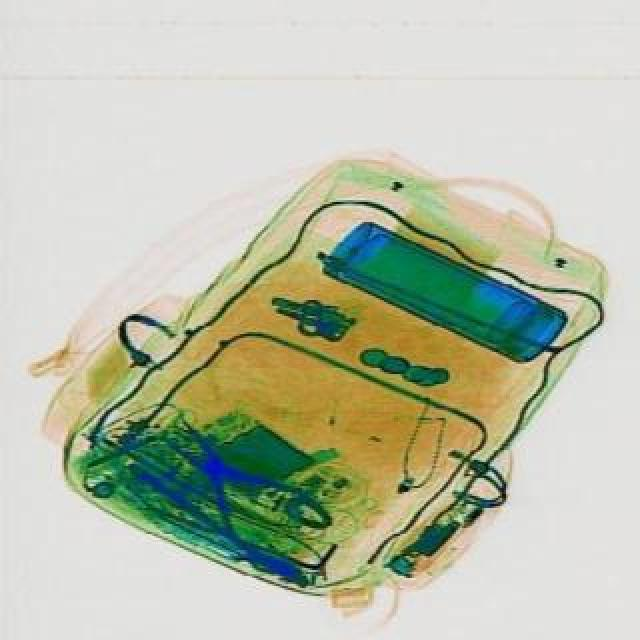wrench: (136, 398, 302, 546)
